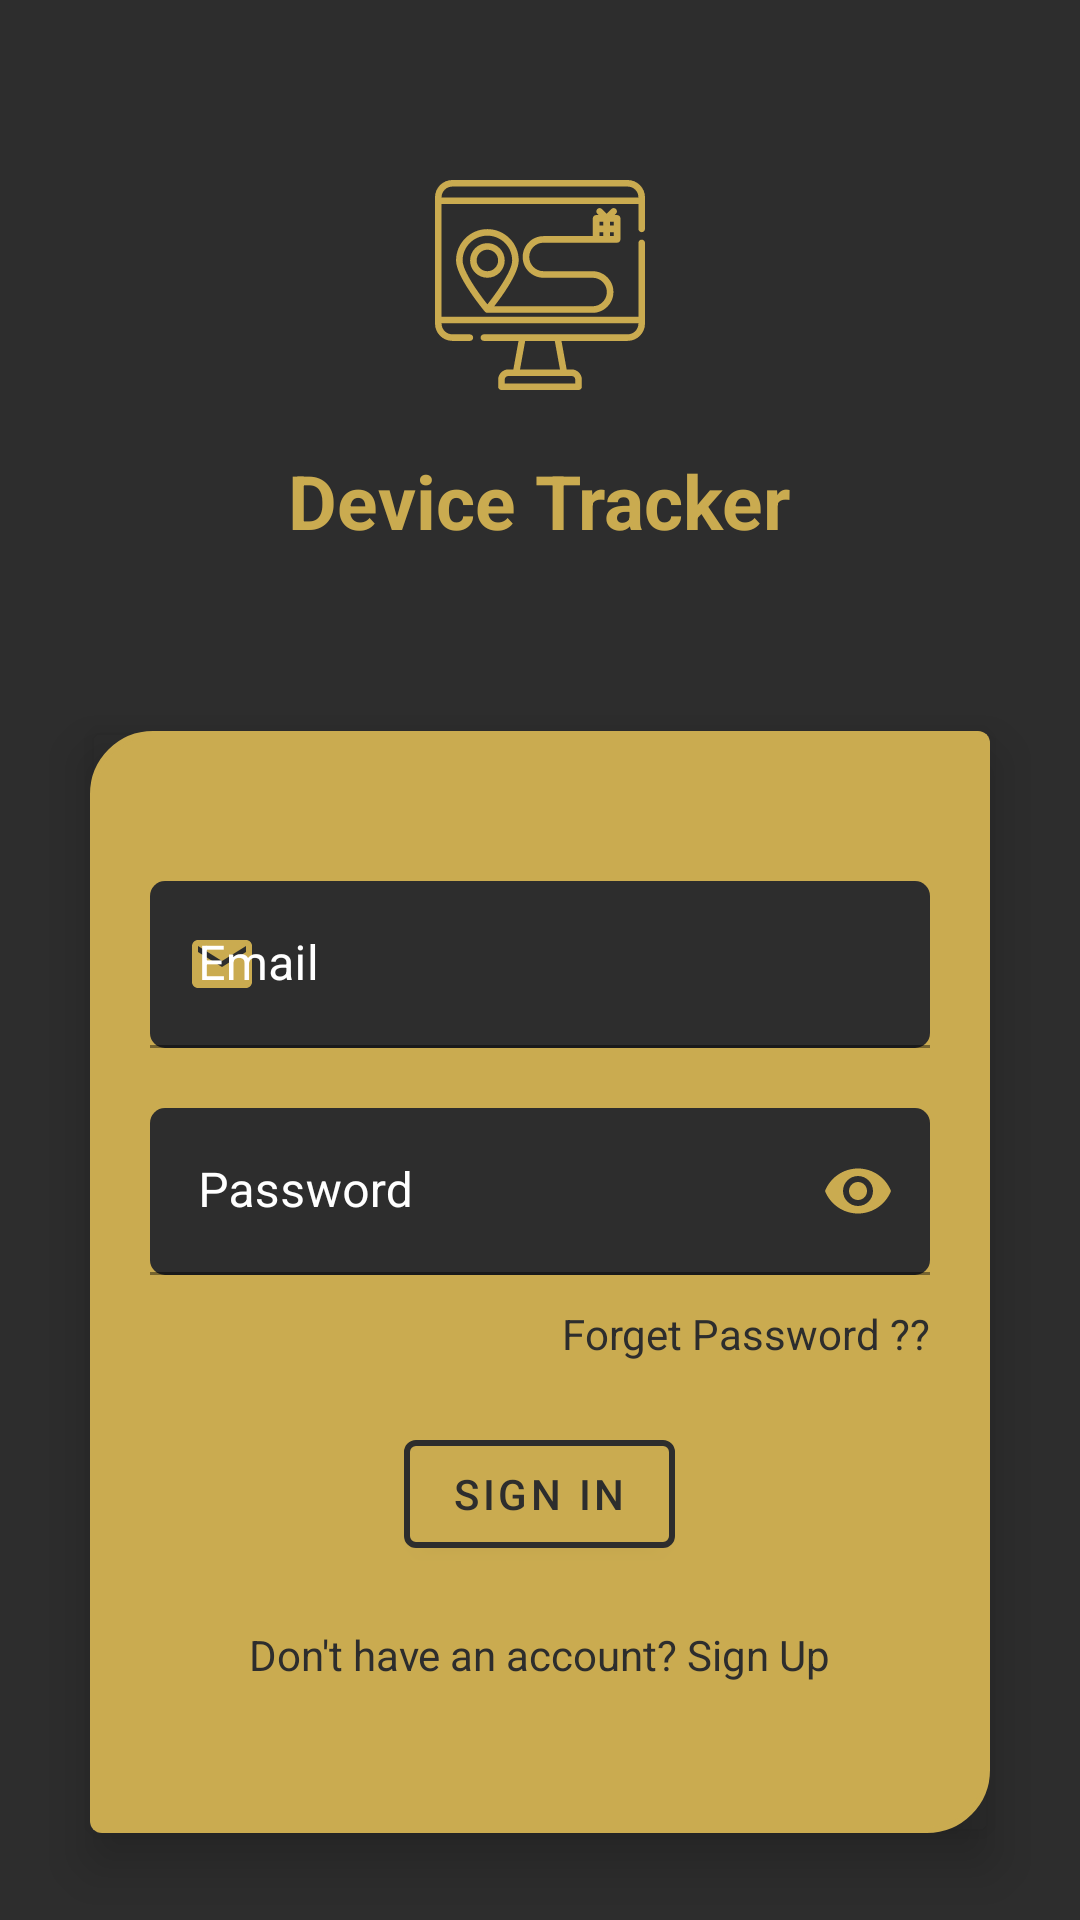

Icons on this 1080 x 1920 Android screen, each with its box as BBox(x1, y1, x2, y2):
tracking track: BBox(435, 180, 645, 390)
